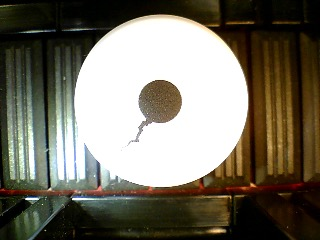CRACK: (73, 14, 250, 187)
